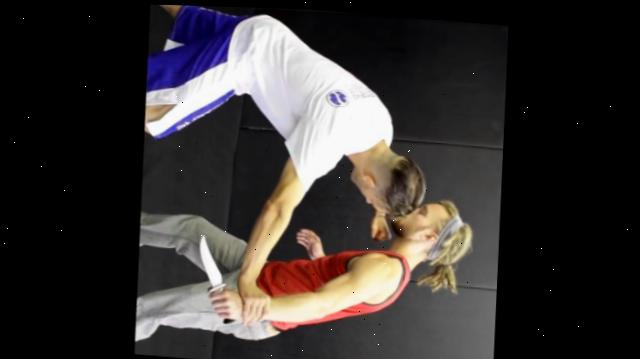long knife: (187, 225, 243, 329)
